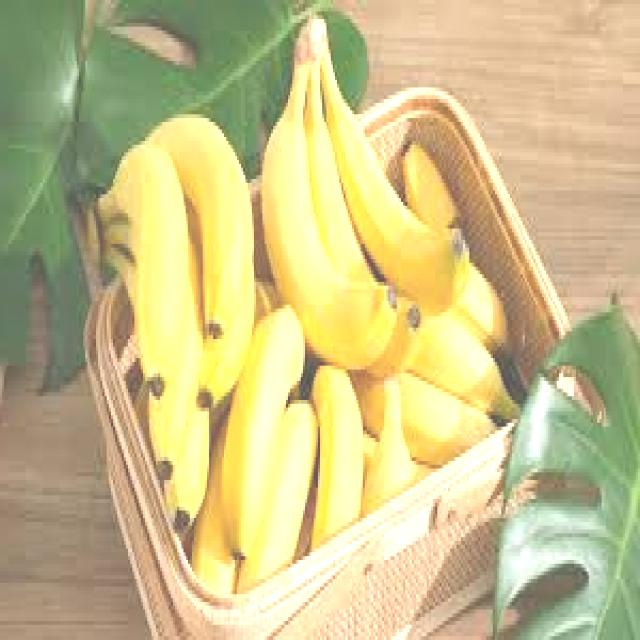Banana: (260, 19, 473, 374), (88, 111, 252, 535), (363, 258, 522, 512)
